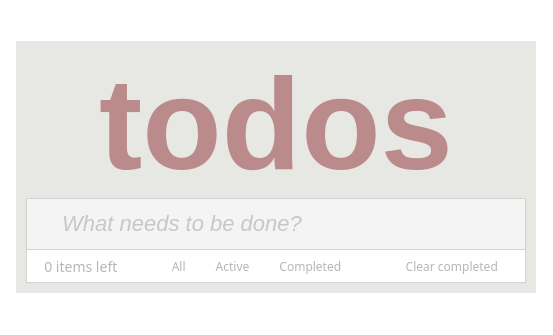
Test case: Todo App › добавление новой задачи
This screenshot has width=553, height=335.
Type "Новая задача" into the field with placeholder "What needs to be done?" at (276, 224), box [27,199,525,249]
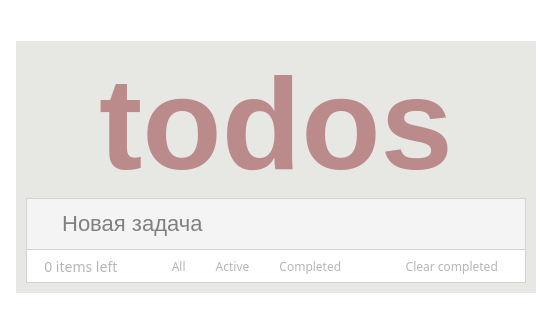
Press Enter in the field with placeholder "What needs to be done?", box [27,199,525,249]
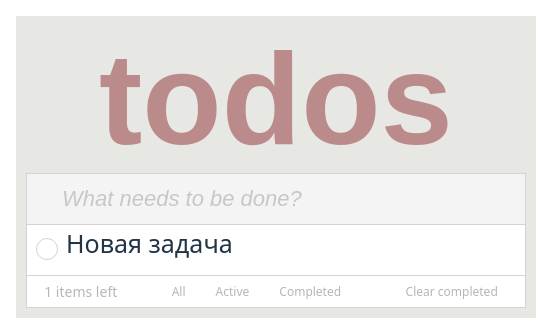
Expected: the text "Новая задача" is shown, [66,226,233,260]
